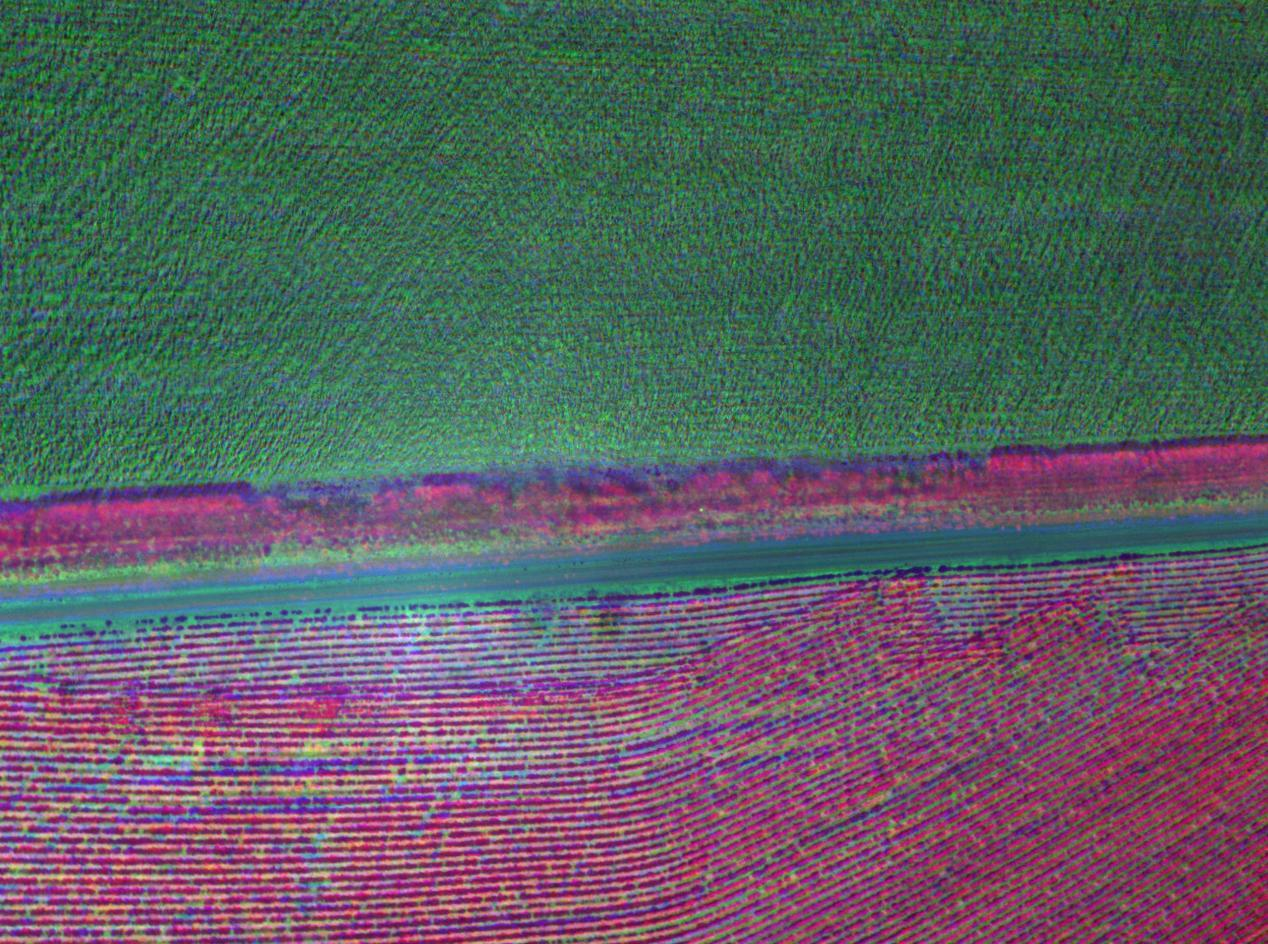dc: (40, 684, 47, 691), (126, 628, 132, 635), (305, 748, 311, 754), (195, 741, 201, 746), (155, 756, 161, 761), (119, 804, 123, 809), (961, 904, 965, 908), (1174, 682, 1177, 685)
